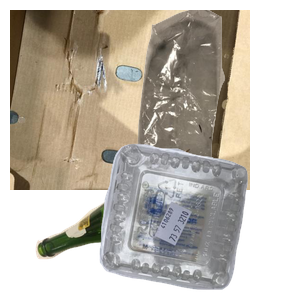cardboard: (10, 10, 250, 190)
glass: (33, 158, 246, 300)
plastic: (97, 141, 300, 300)
trash: (114, 10, 300, 190)
